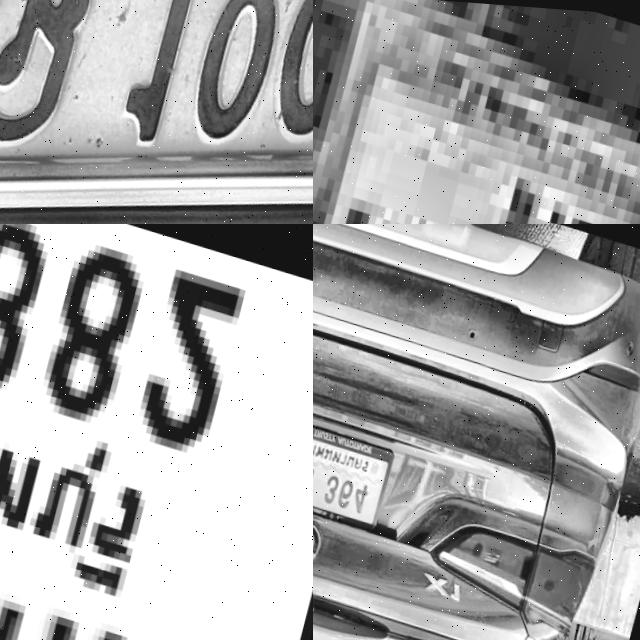license-plate: (0, 224, 313, 640), (313, 0, 640, 224), (0, 0, 313, 224), (313, 404, 398, 528)
